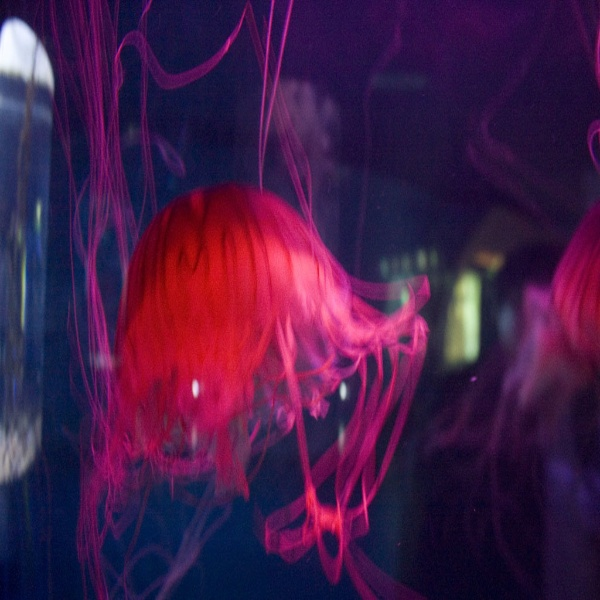Jellyfish: (0, 2, 430, 598), (433, 1, 599, 483)
